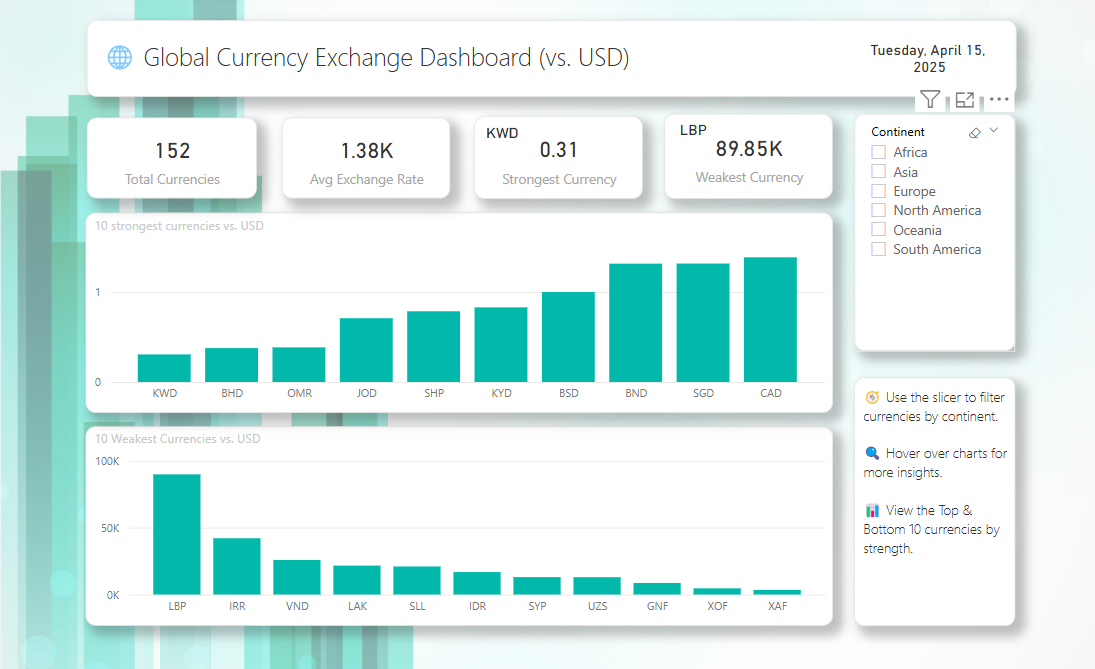

Layout of this report page (visuals, bound fields, positions):
{"tool":"powerbi","page":{"name":"Page 1","canvas":[1280,720],"ordinal":0},"visuals":[{"type":"textbox","box":[199.8,24.8,909.8,75.5],"z":0},{"type":"card","fields":{"Values":["Min(Exchange Rates.ExchangeRate)"]},"box":[578.4,118.6,165.1,80.7],"z":1000},{"type":"card","fields":{"Values":["Exchange Rates.StrongestCurrency"]},"box":[578,120.6,54.3,25.7],"z":2000},{"type":"card","fields":{"Values":["Max(Exchange Rates.ExchangeRate)"]},"box":[764.3,116.2,165.1,83.2],"z":3000},{"type":"card","fields":{"Values":["Exchange Rates.WeakestCurrency"]},"box":[764.9,119,54.4,26.7],"z":4000},{"type":"clusteredColumnChart","title":"10 Weakest Currencies vs. USD","fields":{"Category":["Exchange Rates.Currency"],"Y":["Sum(Exchange Rates.ExchangeRate)"]},"box":[197.9,422.4,731.4,194.9],"z":5000},{"type":"clusteredColumnChart","title":"10 strongest currencies vs. USD","fields":{"Category":["Exchange Rates.Currency"],"Y":["Sum(Exchange Rates.ExchangeRate)"]},"box":[197.9,212.4,731.4,196.2],"z":6000},{"type":"slicer","fields":{"Values":["Exchange Rates.Continent"]},"box":[950.1,116.2,157.7,232.3],"z":7000},{"type":"card","fields":{"Values":["Count(Exchange Rates.Currency)"]},"box":[199.2,120.4,166.3,79.5],"z":8000},{"type":"card","fields":{"Values":["Avg(Exchange Rates.ExchangeRate)"]},"box":[389.9,120.4,165.1,79.5],"z":9000},{"type":"card","fields":{"Values":["Min(Exchange Rates.RefreshDate)"]},"box":[951.8,37.1,145.5,52.1],"z":10000},{"type":"textbox","box":[950.2,374.8,157.7,243.3],"z":11000},{"type":"textbox","box":[209.9,39,651.8,50.1],"z":12000}]}

Visuals, with their boxes on the page's 1280x720 design canvas (x1, y1, x2, y2). These are canvas units, not pixel positions in the 1095x669 screenshot, which may show the page scaled, cropped or inside an application window:
textbox: <region>200, 25, 1110, 100</region>
card - Min(Exchange Rates.ExchangeRate): <region>578, 119, 744, 199</region>
card - Exchange Rates.StrongestCurrency: <region>578, 121, 632, 146</region>
card - Max(Exchange Rates.ExchangeRate): <region>764, 116, 929, 199</region>
card - Exchange Rates.WeakestCurrency: <region>765, 119, 819, 146</region>
"10 Weakest Currencies vs. USD" clusteredColumnChart: <region>198, 422, 929, 617</region>
"10 strongest currencies vs. USD" clusteredColumnChart: <region>198, 212, 929, 409</region>
slicer - Exchange Rates.Continent: <region>950, 116, 1108, 348</region>
card - Count(Exchange Rates.Currency): <region>199, 120, 366, 200</region>
card - Avg(Exchange Rates.ExchangeRate): <region>390, 120, 555, 200</region>
card - Min(Exchange Rates.RefreshDate): <region>952, 37, 1097, 89</region>
textbox: <region>950, 375, 1108, 618</region>
textbox: <region>210, 39, 862, 89</region>
